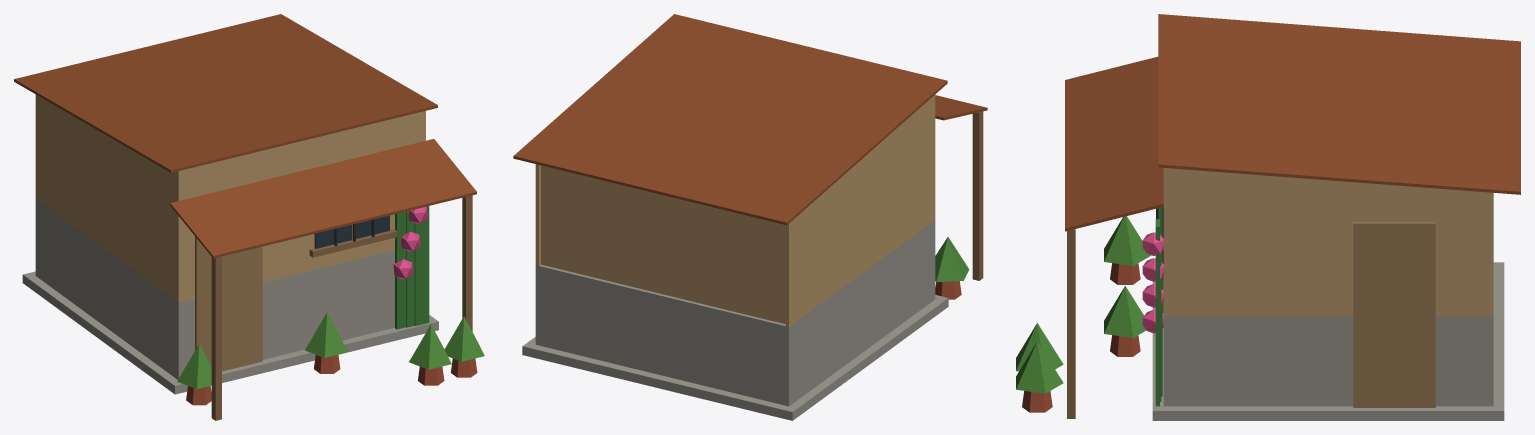
Rendered from BAY_I_SariSari_R.glb.
3 renders of one model, left to right at view 1: azimuth 30°, elevation 25°; view 2: azimuth 150°, elevation 25°; view 3: azimuth 270°, elevation 25°, orthographic. The views are drawn at different scales.
Visible parts, largest first — view 1: BAY_I_SariSari_R; view 2: BAY_I_SariSari_R; view 3: BAY_I_SariSari_R.
Boxes of the visible parts, x1,y1,x2,y2 form: BAY_I_SariSari_R: [14, 14, 484, 420]; BAY_I_SariSari_R: [513, 14, 987, 420]; BAY_I_SariSari_R: [1016, 14, 1520, 420].
Bounding box in the file's own units: 3.3 × 2.58 × 4.59.
1 material, 1 textured.
